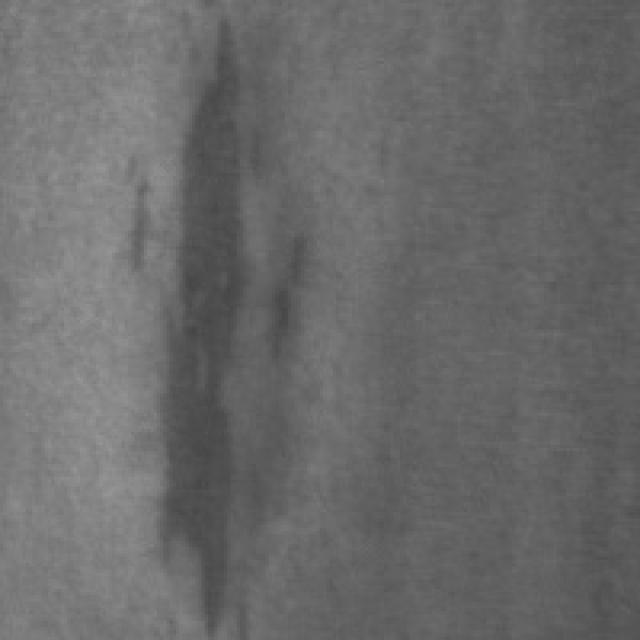inclusion: (102, 7, 266, 630), (252, 218, 330, 364)
